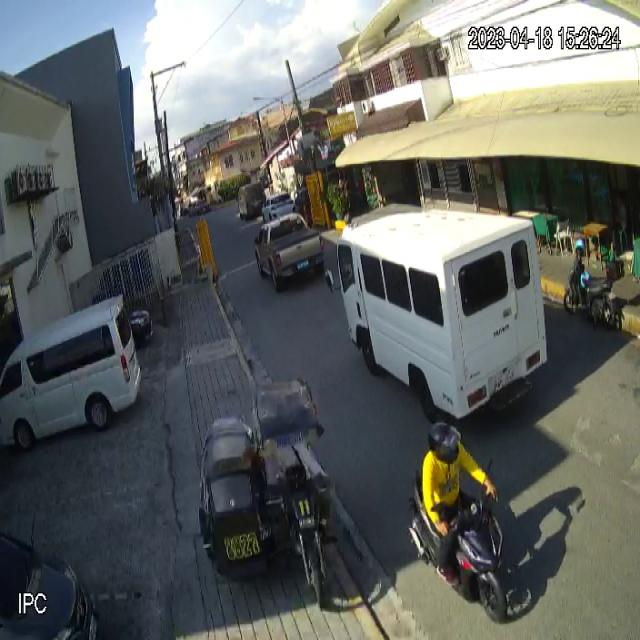Car: (250, 216, 327, 293)
Motorcycle: (408, 464, 510, 626), (563, 255, 624, 332)
Tricycle: (195, 376, 327, 612)
Van: (326, 210, 550, 420), (0, 292, 144, 454)
